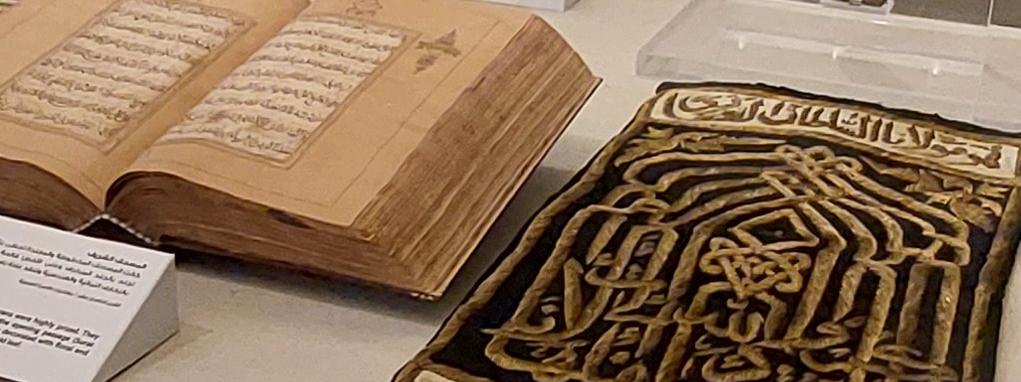The_HolyQuran: (0, 0, 598, 285)
